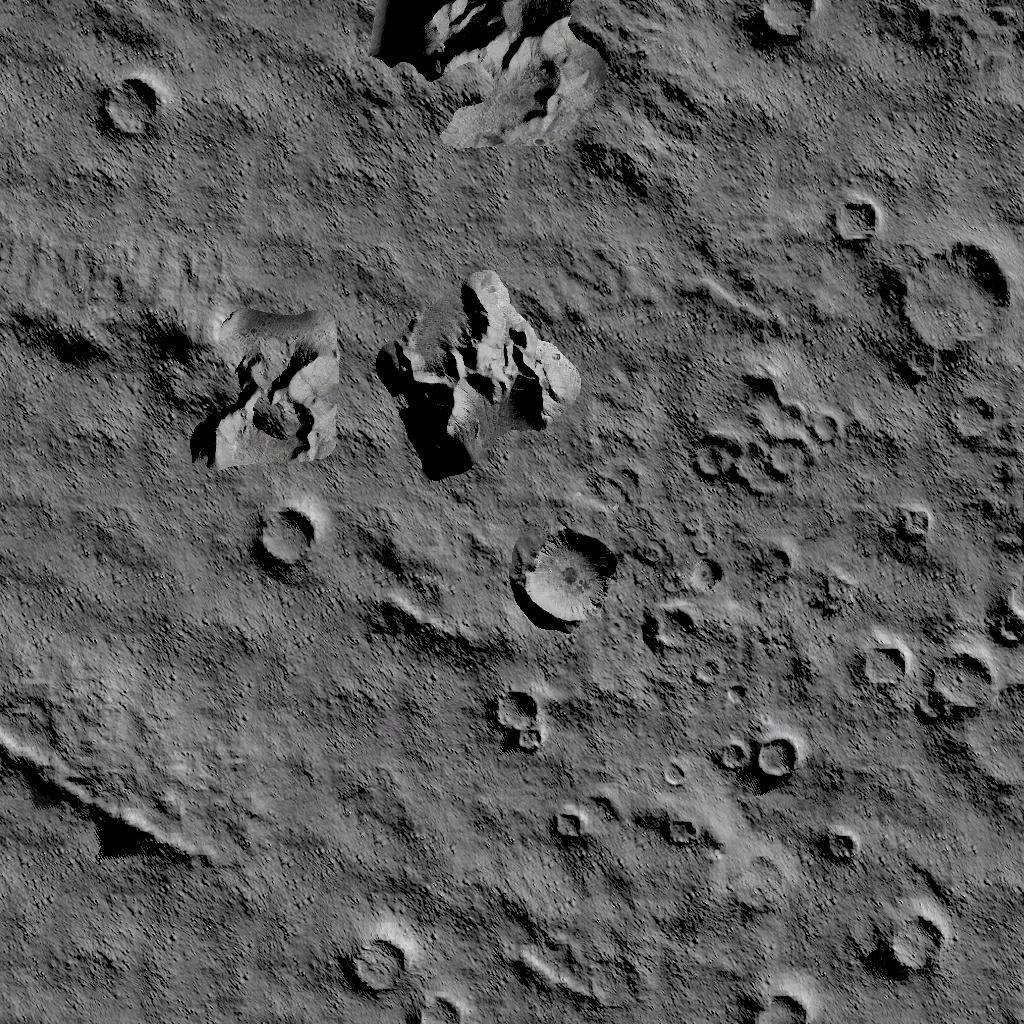Boulders: (0, 248, 345, 472), (375, 0, 686, 203), (380, 270, 584, 486), (0, 718, 214, 868), (358, 526, 494, 654)
Crater: (851, 566, 1024, 792), (894, 234, 1024, 446), (681, 360, 833, 504), (508, 510, 626, 638), (341, 916, 470, 1024), (242, 490, 330, 592), (644, 550, 724, 654), (860, 894, 948, 988), (89, 68, 171, 155), (706, 722, 800, 792), (734, 0, 828, 59), (480, 678, 548, 756), (820, 188, 884, 262), (724, 974, 818, 1024), (652, 798, 704, 850), (885, 499, 934, 551), (813, 814, 854, 866), (544, 800, 588, 840), (997, 988, 1024, 1024)
Plan surface: (4, 880, 324, 1024), (6, 488, 234, 684), (253, 670, 457, 856), (194, 6, 348, 228), (727, 76, 1024, 164)
